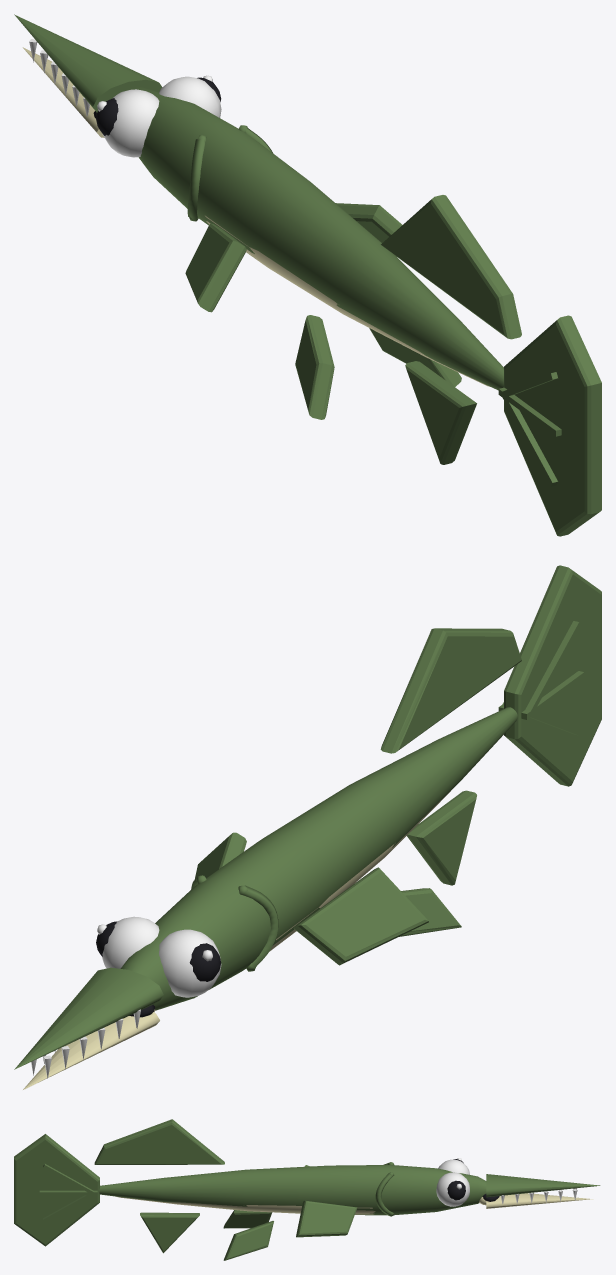
Rendered from FISH_GATORGAR.glb.
3 renders of one model, top to bottom at view 1: azimuth 30°, elevation 25°; view 2: azimuth 150°, elevation 25°; view 3: azimuth 270°, elevation 25°, orthographic. The views are drawn at different scales.
Parts seen in each view (by area): view 1: GarGreen, EyeWhite, Belly, Eye; view 2: GarGreen, EyeWhite, Belly, Eye, Teeth; view 3: GarGreen, Belly, EyeWhite, Eye, Teeth.
Boxes of the visible parts, bbox=[...] form: GarGreen: bbox=[14, 14, 601, 536]; EyeWhite: bbox=[97, 75, 221, 157]; Belly: bbox=[22, 47, 489, 386]; Eye: bbox=[93, 77, 221, 135]; GarGreen: bbox=[14, 565, 601, 1069]; EyeWhite: bbox=[97, 916, 221, 997]; Belly: bbox=[23, 789, 452, 1089]; Eye: bbox=[96, 921, 221, 1017]; Teeth: bbox=[31, 1009, 140, 1078]; GarGreen: bbox=[14, 1119, 600, 1260]; Belly: bbox=[116, 1193, 593, 1214]; EyeWhite: bbox=[436, 1158, 469, 1206]; Eye: bbox=[447, 1159, 499, 1201]; Teeth: bbox=[500, 1188, 577, 1203].
Bounding box in the file's own units: 0.9163 × 0.9935 × 4.
